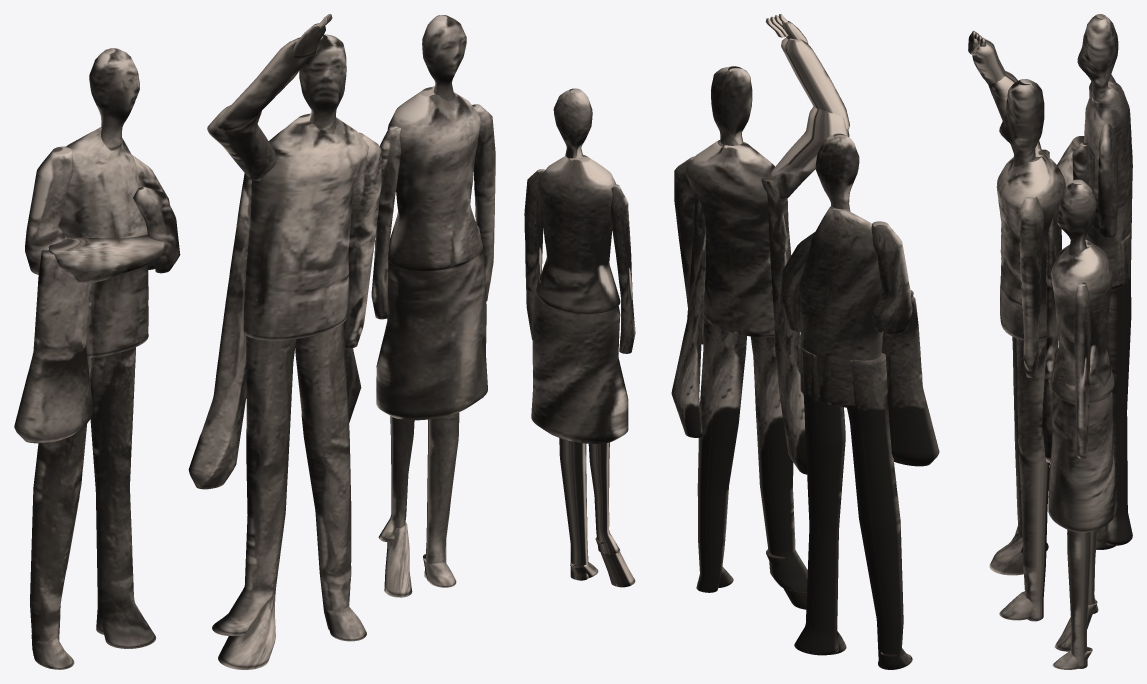
The model's file is talent-navigators.glb.
3 renders of one model, left to right at view 1: azimuth 30°, elevation 25°; view 2: azimuth 150°, elevation 25°; view 3: azimuth 270°, elevation 25°, orthographic. The views are drawn at different scales.
Bounding box in the file's own units: 2.07 × 2.69 × 0.7117.
1 material, 1 textured.
